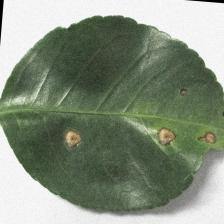canker: (43, 82, 221, 171)
